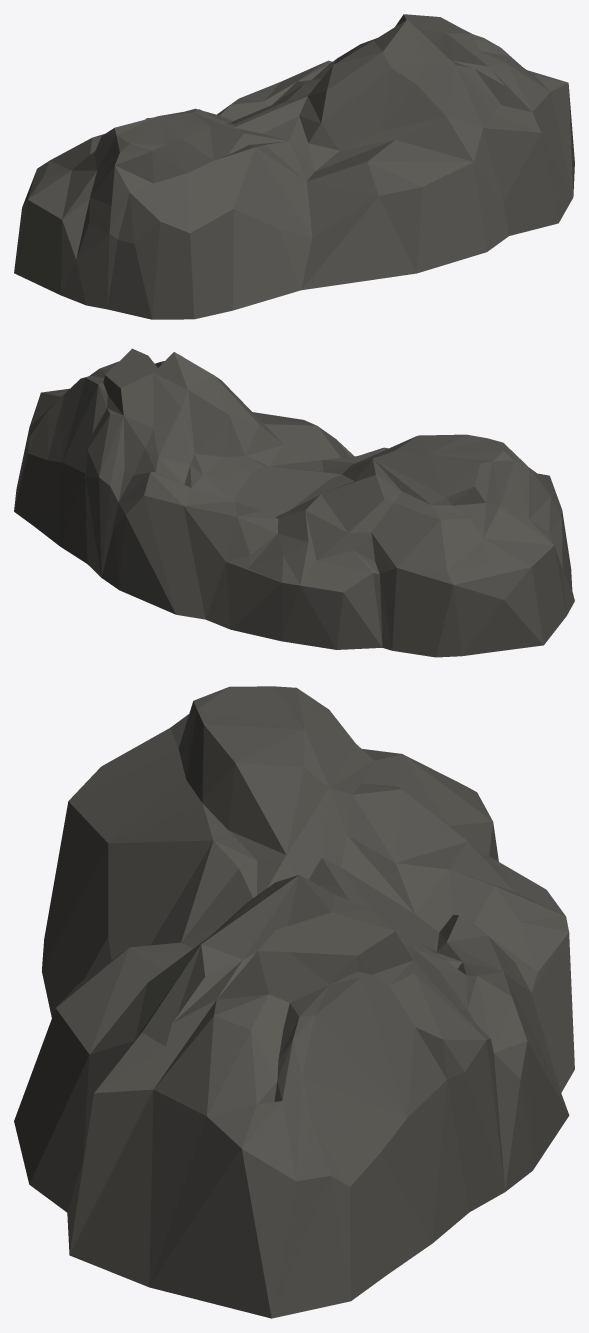
Rendered from rock_rough_02.gltf.
The picture shows the model from 3 angles, top to bottom: view 1: azimuth 30°, elevation 25°; view 2: azimuth 150°, elevation 25°; view 3: azimuth 270°, elevation 25°; orthographic projection. The views are drawn at different scales.
Parts seen in each view (by area): view 1: rock_rough_02; view 2: rock_rough_02; view 3: rock_rough_02.
Boxes of the visible parts, x1,y1,x2,y2 form: rock_rough_02: (14,14,574,319); rock_rough_02: (14,348,574,657); rock_rough_02: (14,686,574,1318).
Bounding box in the file's own units: 6.19 × 1.96 × 3.23.
1 material, 1 textured.
